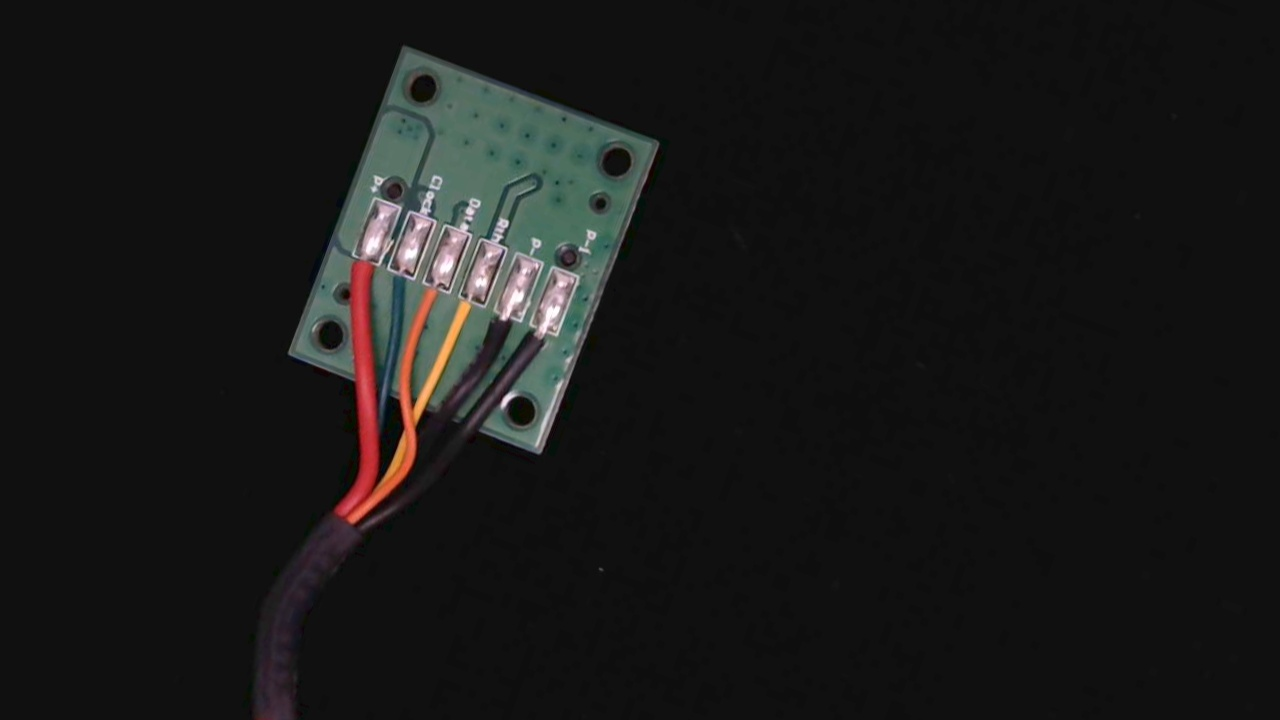Black: (470, 292, 527, 372)
Black1: (513, 305, 567, 379)
Green: (371, 251, 422, 320)
Orange: (403, 262, 457, 332)
Red: (333, 239, 386, 309)
Yellow: (436, 278, 493, 359)
